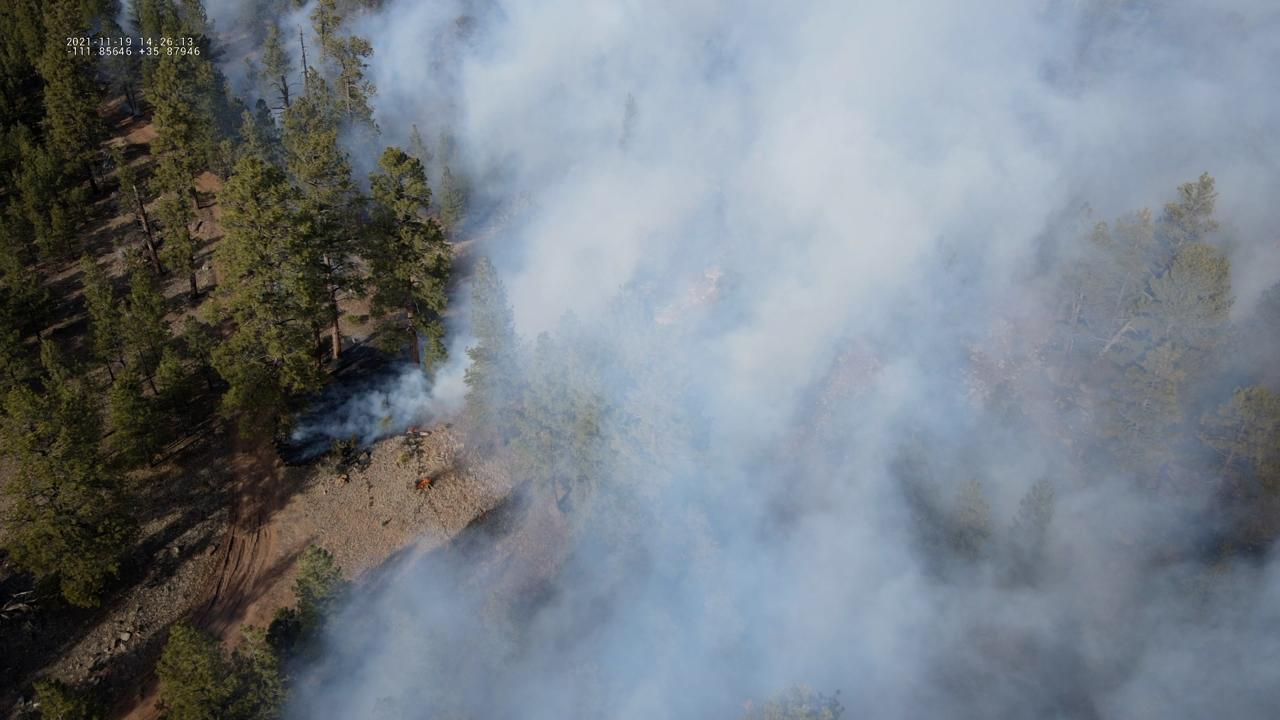fire: (413, 477, 431, 489)
smoke: (86, 0, 1280, 720)
